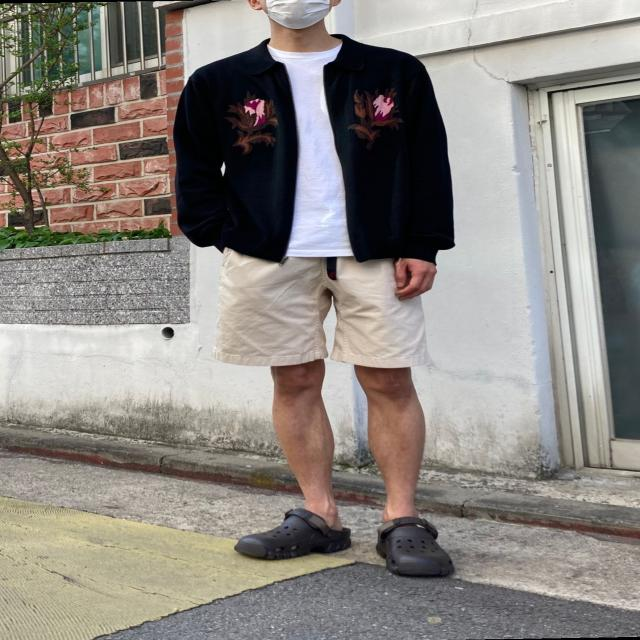jacket: (172, 28, 460, 266)
shortpants: (214, 243, 432, 368)
